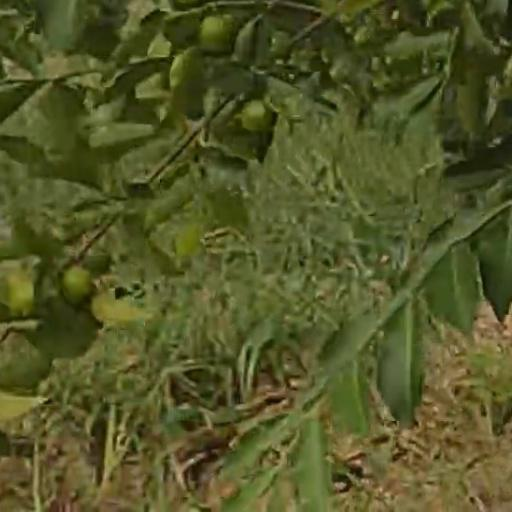acerola_verde: (200, 14, 226, 57), (64, 267, 92, 305), (241, 100, 270, 131)
